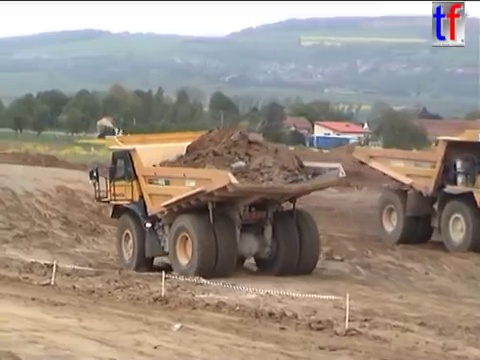truck: (86, 127, 348, 279), (350, 125, 480, 254)
